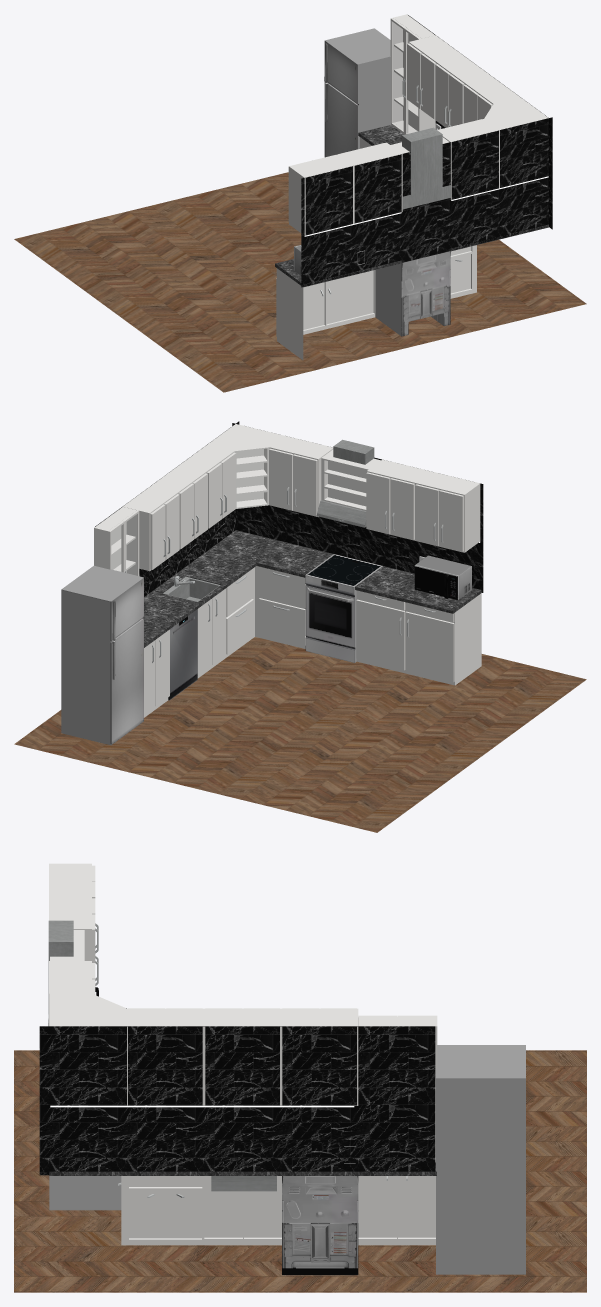
Rendered from modern_kitchen.glb.
The picture shows the model from 3 angles, top to bottom: view 1: azimuth 30°, elevation 25°; view 2: azimuth 150°, elevation 25°; view 3: azimuth 270°, elevation 25°; orthographic projection. The views are drawn at different scales.
Visible parts, largest first — view 1: Plane.017, Plane.002, Cube.047, Cube.002, Cylinder, Plane.014, Plane.001, Plane.013, Plane.019, Plane.020, Plane.007, Plane.011 (+9 smaller); view 2: Plane.017, Cube.047, Plane.002, Cube.002, Plane.007, Plane.008, Plane.006, Plane.003, Plane.001, Plane.005, Plane.014, Plane.013 (+21 smaller); view 3: Plane.012, Plane.017, Cube.047, Cube.018, Plane.004, Plane.009, Plane, Cube.002, Plane.015, Plane.014, Plane.013, Plane.006 (+7 smaller).
Boxes of the visible parts, left/top/right/bottom form: Plane.017: left=14, top=172, right=586, bottom=392; Plane.002: left=301, top=117, right=552, bottom=287; Cube.047: left=324, top=28, right=390, bottom=157; Cube.002: left=375, top=251, right=450, bottom=336; Cylinder: left=402, top=127, right=450, bottom=209; Plane.014: left=407, top=35, right=463, bottom=119; Plane.001: left=326, top=270, right=375, bottom=329; Plane.013: left=435, top=56, right=491, bottom=127; Plane.019: left=393, top=14, right=435, bottom=133; Plane.020: left=277, top=268, right=303, bottom=359; Plane.007: left=288, top=154, right=353, bottom=235; Plane.011: left=463, top=76, right=520, bottom=123; Plane.017: left=14, top=637, right=586, bottom=832; Cube.047: left=61, top=565, right=143, bottom=745; Plane.002: left=232, top=423, right=483, bottom=592; Cube.002: left=305, top=554, right=382, bottom=662; Plane.007: left=415, top=471, right=480, bottom=552; Plane.008: left=269, top=436, right=333, bottom=517; Plane.006: left=366, top=459, right=430, bottom=540; Plane.003: left=255, top=566, right=305, bottom=648; Plane.001: left=356, top=590, right=405, bottom=673; Plane.005: left=405, top=602, right=454, bottom=685; Plane.014: left=123, top=486, right=179, bottom=571; Plane.013: left=151, top=465, right=207, bottom=549; Plane.012: left=39, top=1026, right=435, bottom=1175; Plane.017: left=14, top=1050, right=586, bottom=1292; Cube.047: left=436, top=1045, right=525, bottom=1274; Cube.018: left=282, top=1176, right=358, bottom=1275; Plane.004: left=121, top=1176, right=204, bottom=1245; Plane.009: left=358, top=1176, right=435, bottom=1245; Plane: left=204, top=1176, right=281, bottom=1245; Cube.002: left=49, top=1176, right=121, bottom=1210; Plane.015: left=49, top=993, right=126, bottom=1026; Plane.014: left=281, top=1008, right=358, bottom=1105; Plane.013: left=204, top=1008, right=281, bottom=1105; Plane.006: left=49, top=896, right=95, bottom=962.
Size of the model in its own units: 14.78 by 7.55 by 14.78.
Materials: 15 (12 with a texture image).
